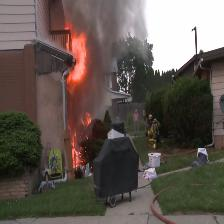fire: (57, 19, 127, 185)
smoke: (70, 0, 171, 95)
